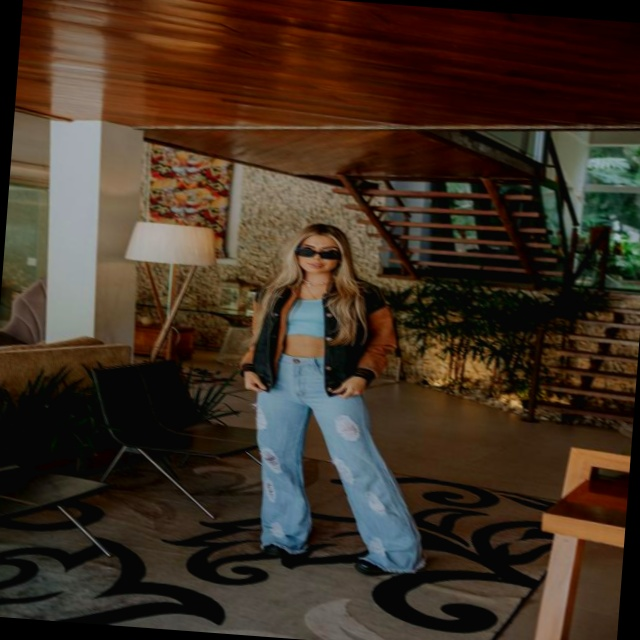Crop_Top: (268, 298, 365, 363)
low_neckline: (266, 274, 363, 339)
ripped_pants: (246, 355, 442, 577)
